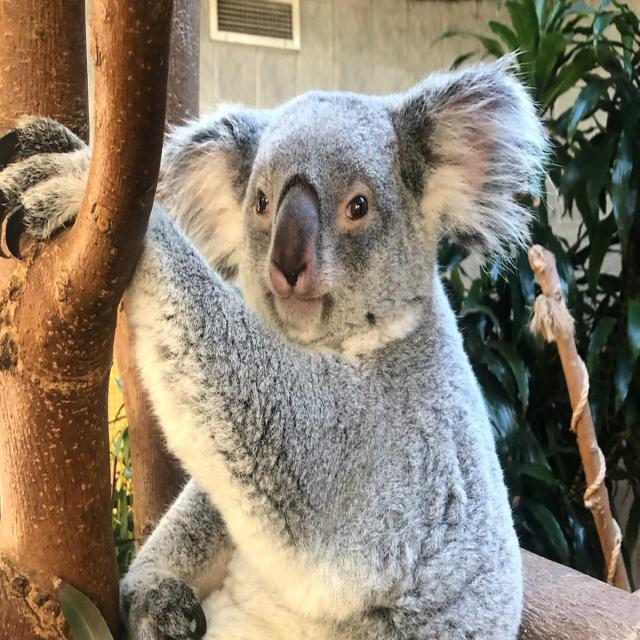koala: (121, 57, 548, 639)
